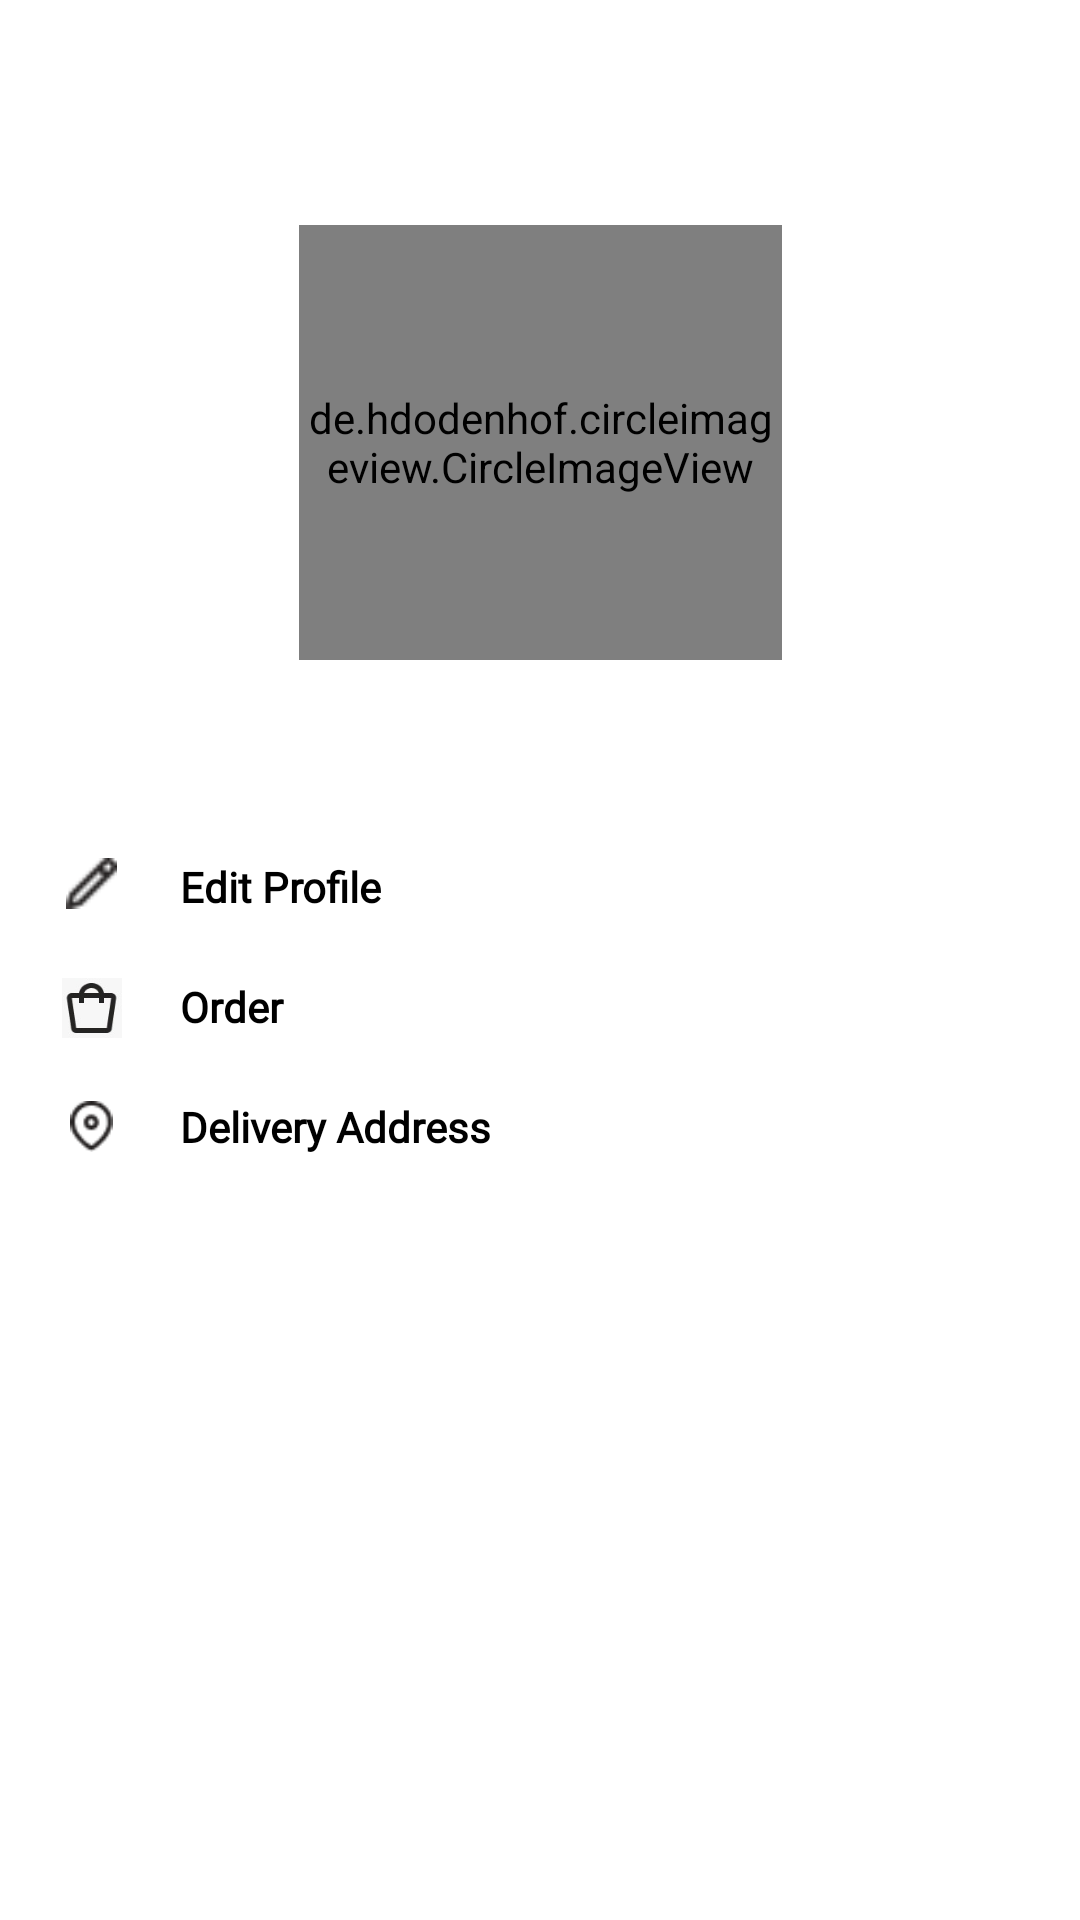

Screen size 1080×1920. Icon name, then its box in pixels as (x1, y1, x2, y2):
cart: (66, 983, 117, 1033)
pen: (66, 858, 117, 909)
